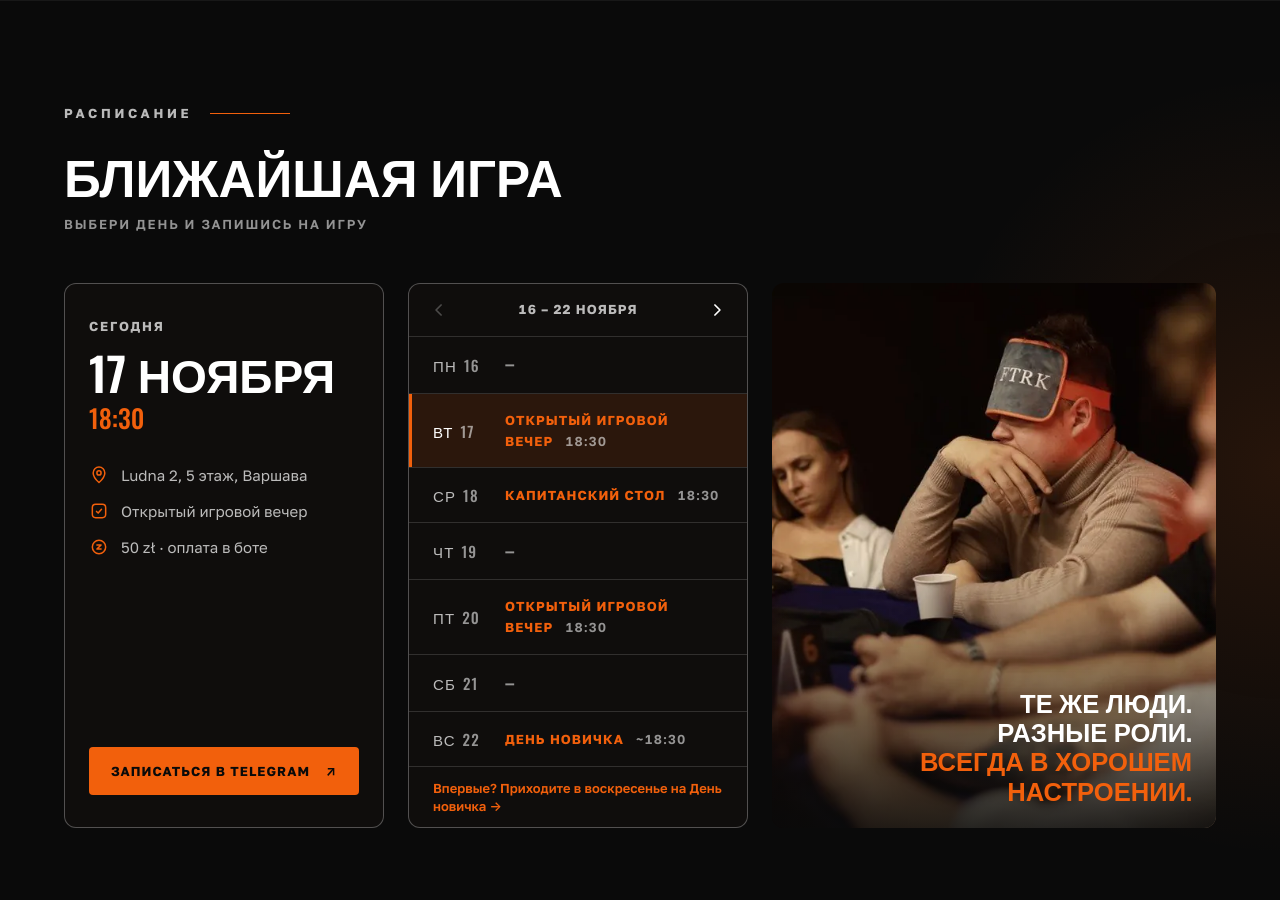
schedule card › picks the next Newcomers' day from the line under the week, with a link to the first-visit guide
Click the button "Впервые? Приходите в воскресенье на День новичка →": (578, 797) 409,766 -> 747,827
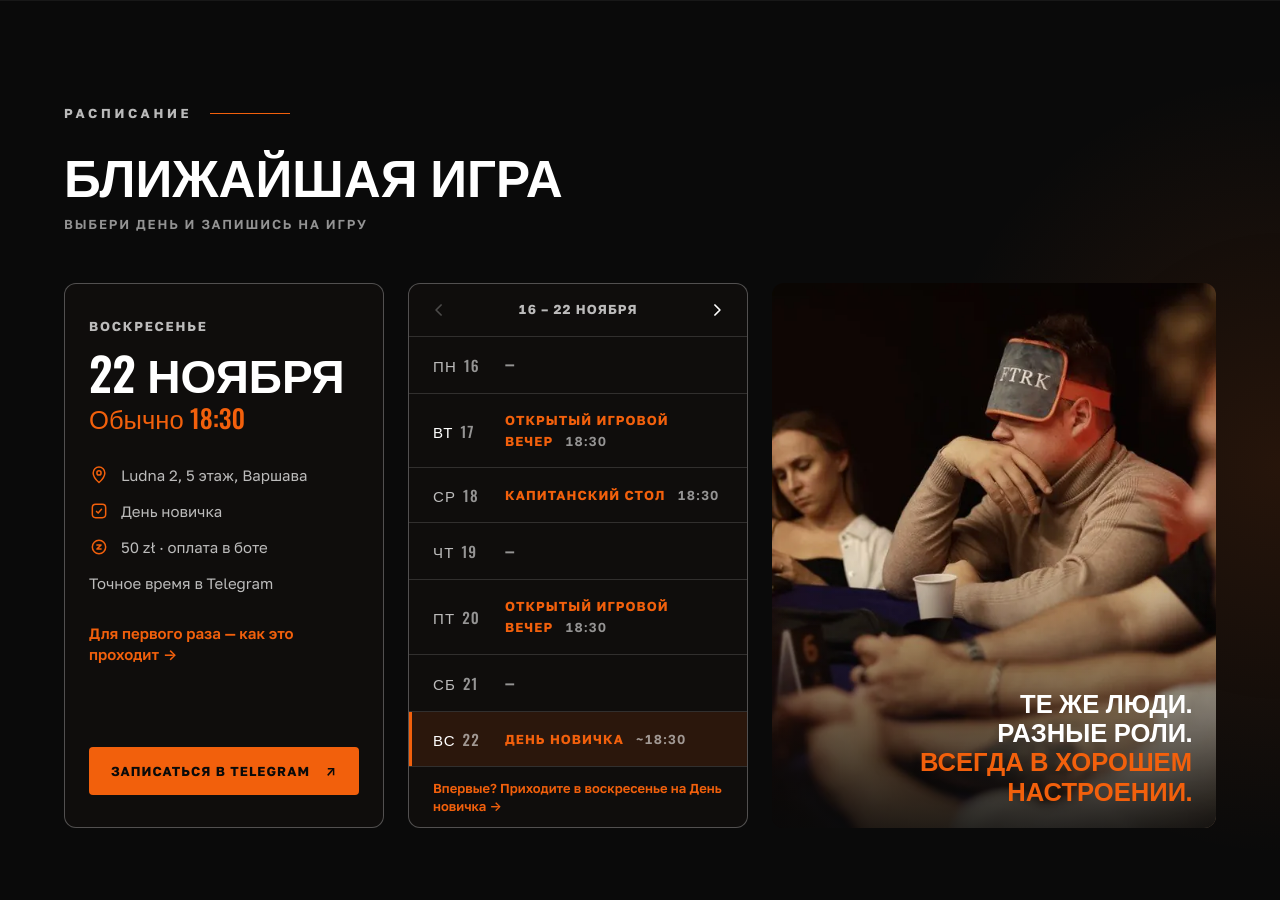
expect the text "22 ноября" is shown: met, box 89,348 -> 359,395
